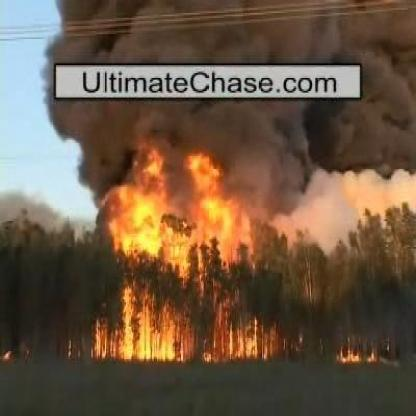-: (55, 2, 380, 55), (225, 99, 378, 211)
foggia-v2-map80-epoch100 - v1 4323: (122, 311, 168, 360)
